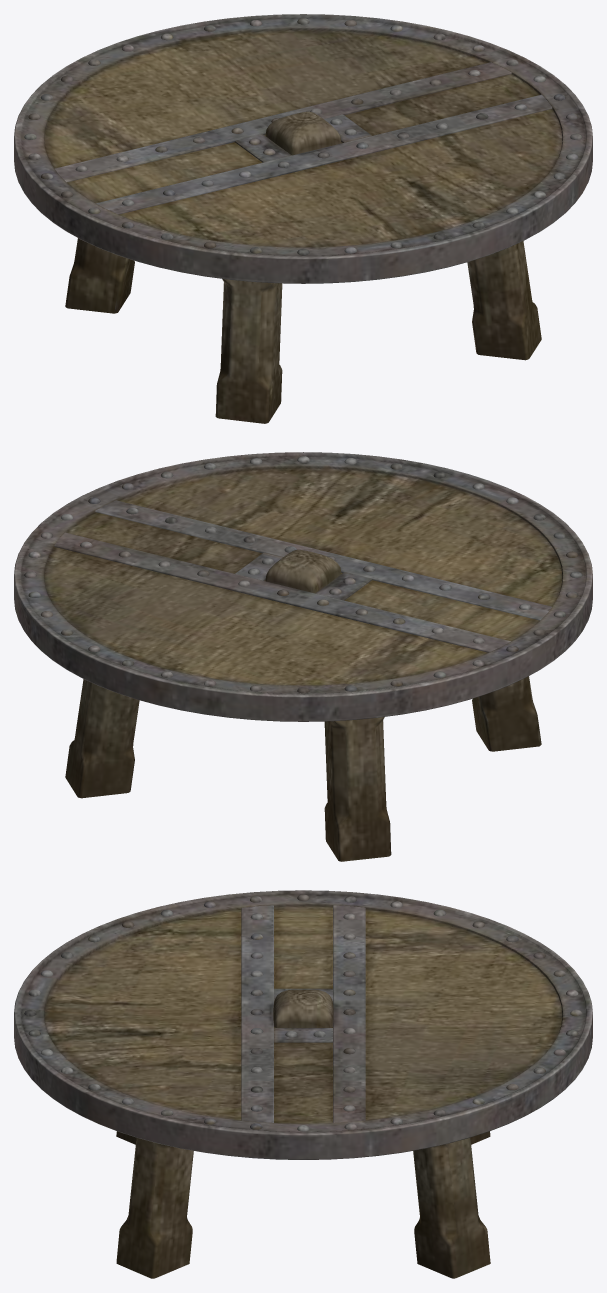
File: SM_Table.glb
The picture shows the model from 3 angles, top to bottom: view 1: azimuth 30°, elevation 25°; view 2: azimuth 150°, elevation 25°; view 3: azimuth 270°, elevation 25°; orthographic projection.
Parts seen in each view (by area): view 1: SM_Table; view 2: SM_Table; view 3: SM_Table.
Part boxes in pixels (x1=…): SM_Table: x1=14, y1=14, x2=592, y2=423; SM_Table: x1=14, y1=452, x2=592, y2=861; SM_Table: x1=14, y1=890, x2=592, y2=1278.
Bounding box in the file's own units: 1.99 × 0.7787 × 1.99.
1 material, 1 textured.
